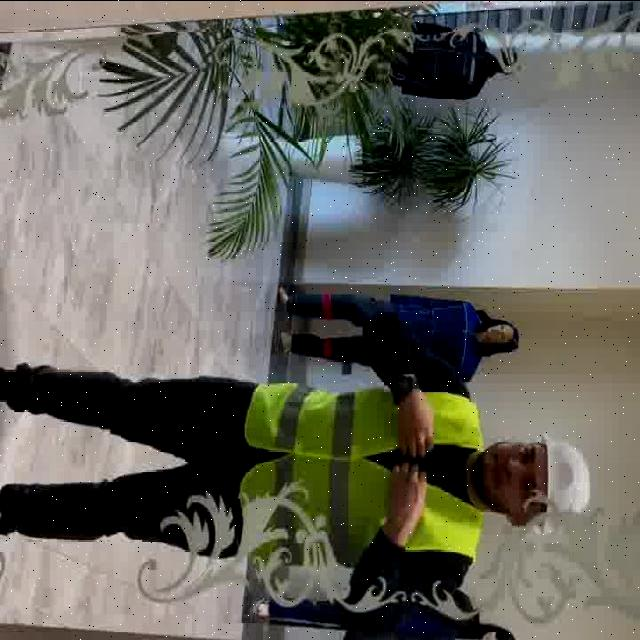Helmet: (538, 436, 592, 534)
Vest: (242, 378, 489, 566)
